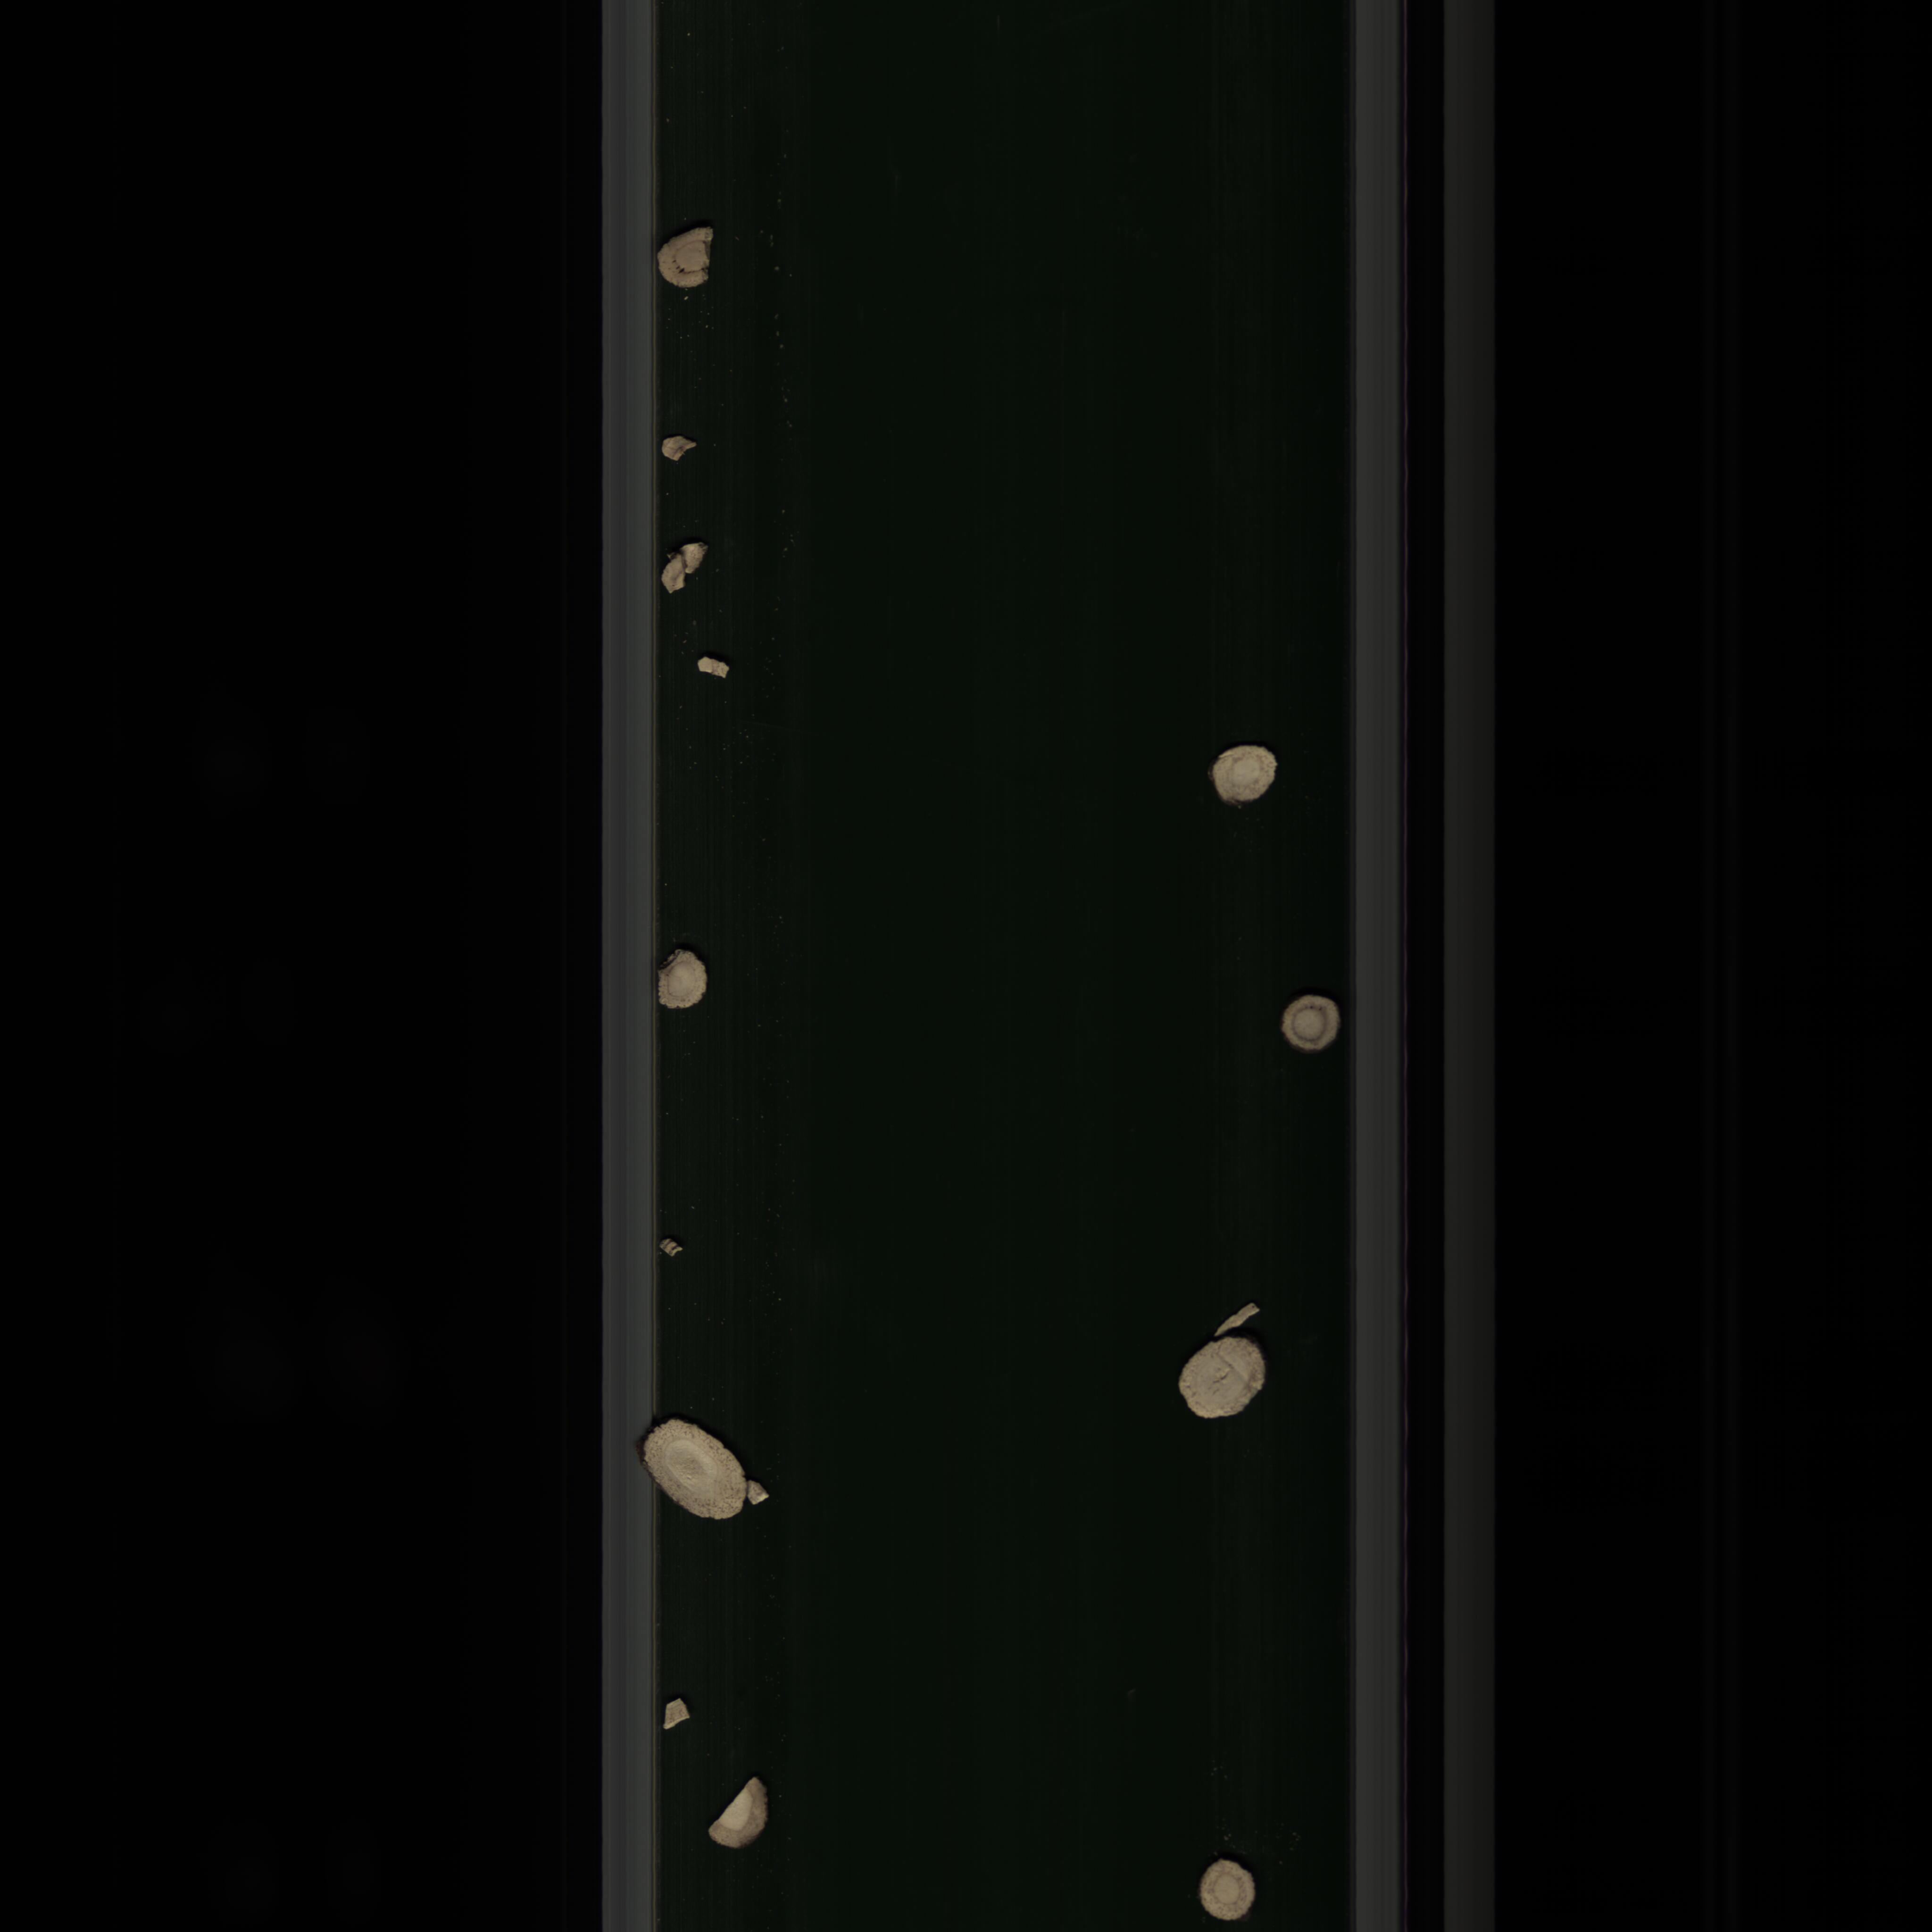debris: (701, 1778, 780, 1858), (655, 226, 738, 292), (658, 536, 711, 594), (655, 1686, 699, 1743), (679, 651, 741, 685), (658, 437, 702, 469)
moldy: (1276, 982, 1348, 1063)
